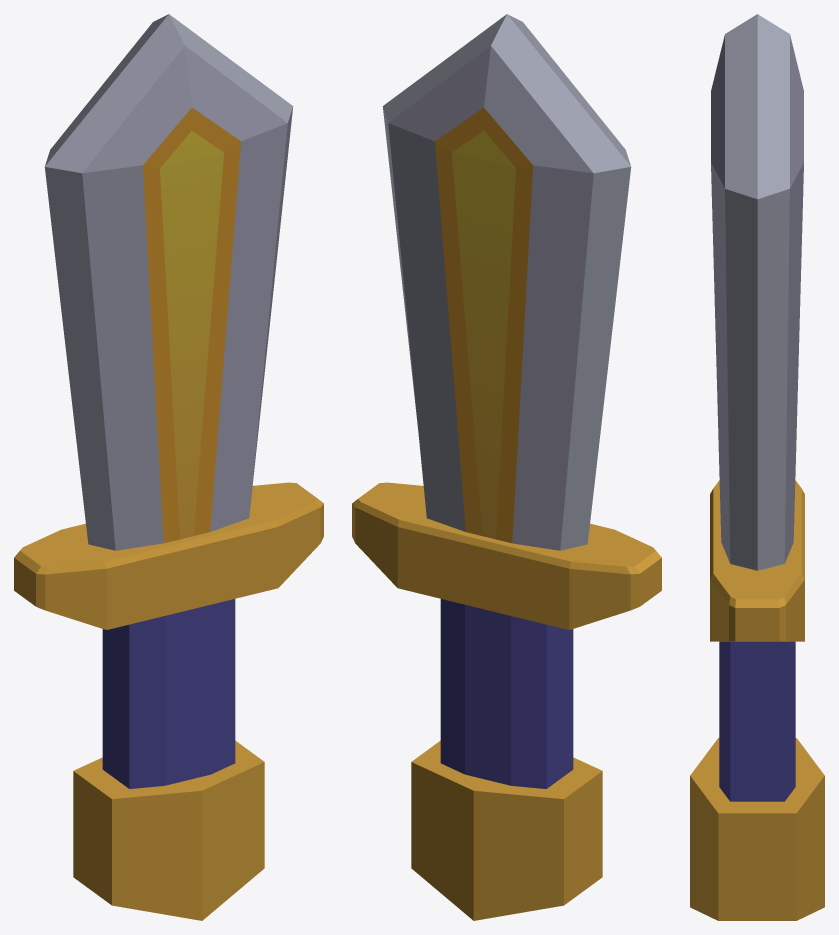
Rendered from Sword.fbx.
3 views of the same model, side by side, from view 1: azimuth 30°, elevation 25°; view 2: azimuth 150°, elevation 25°; view 3: azimuth 270°, elevation 25° (orthographic).
Parts seen in each view (by area): view 1: Cube.041; view 2: Cube.041; view 3: Cube.041.
Part boxes in pixels (left/top/right/bottom): Cube.041: left=14, top=14, right=323, bottom=920; Cube.041: left=352, top=14, right=661, bottom=920; Cube.041: left=690, top=14, right=824, bottom=920.
Size of the model in its own units: 53.24 by 156 by 21.3.
